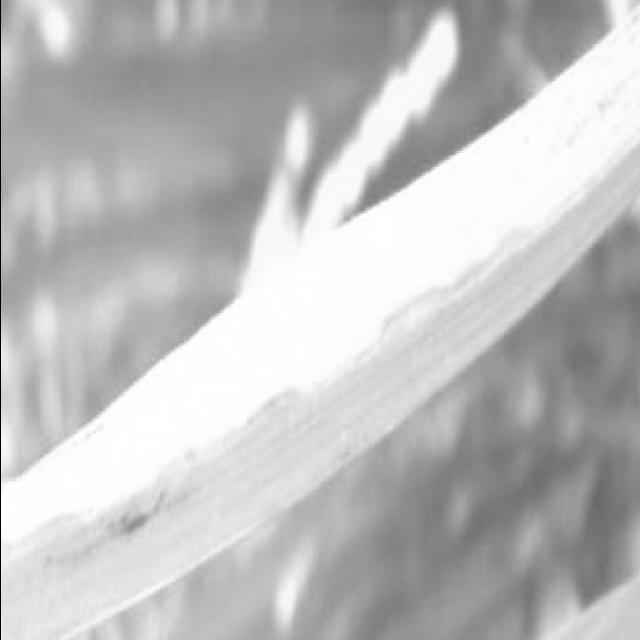Bacterial_Leaf_Blight: (0, 304, 434, 603)
